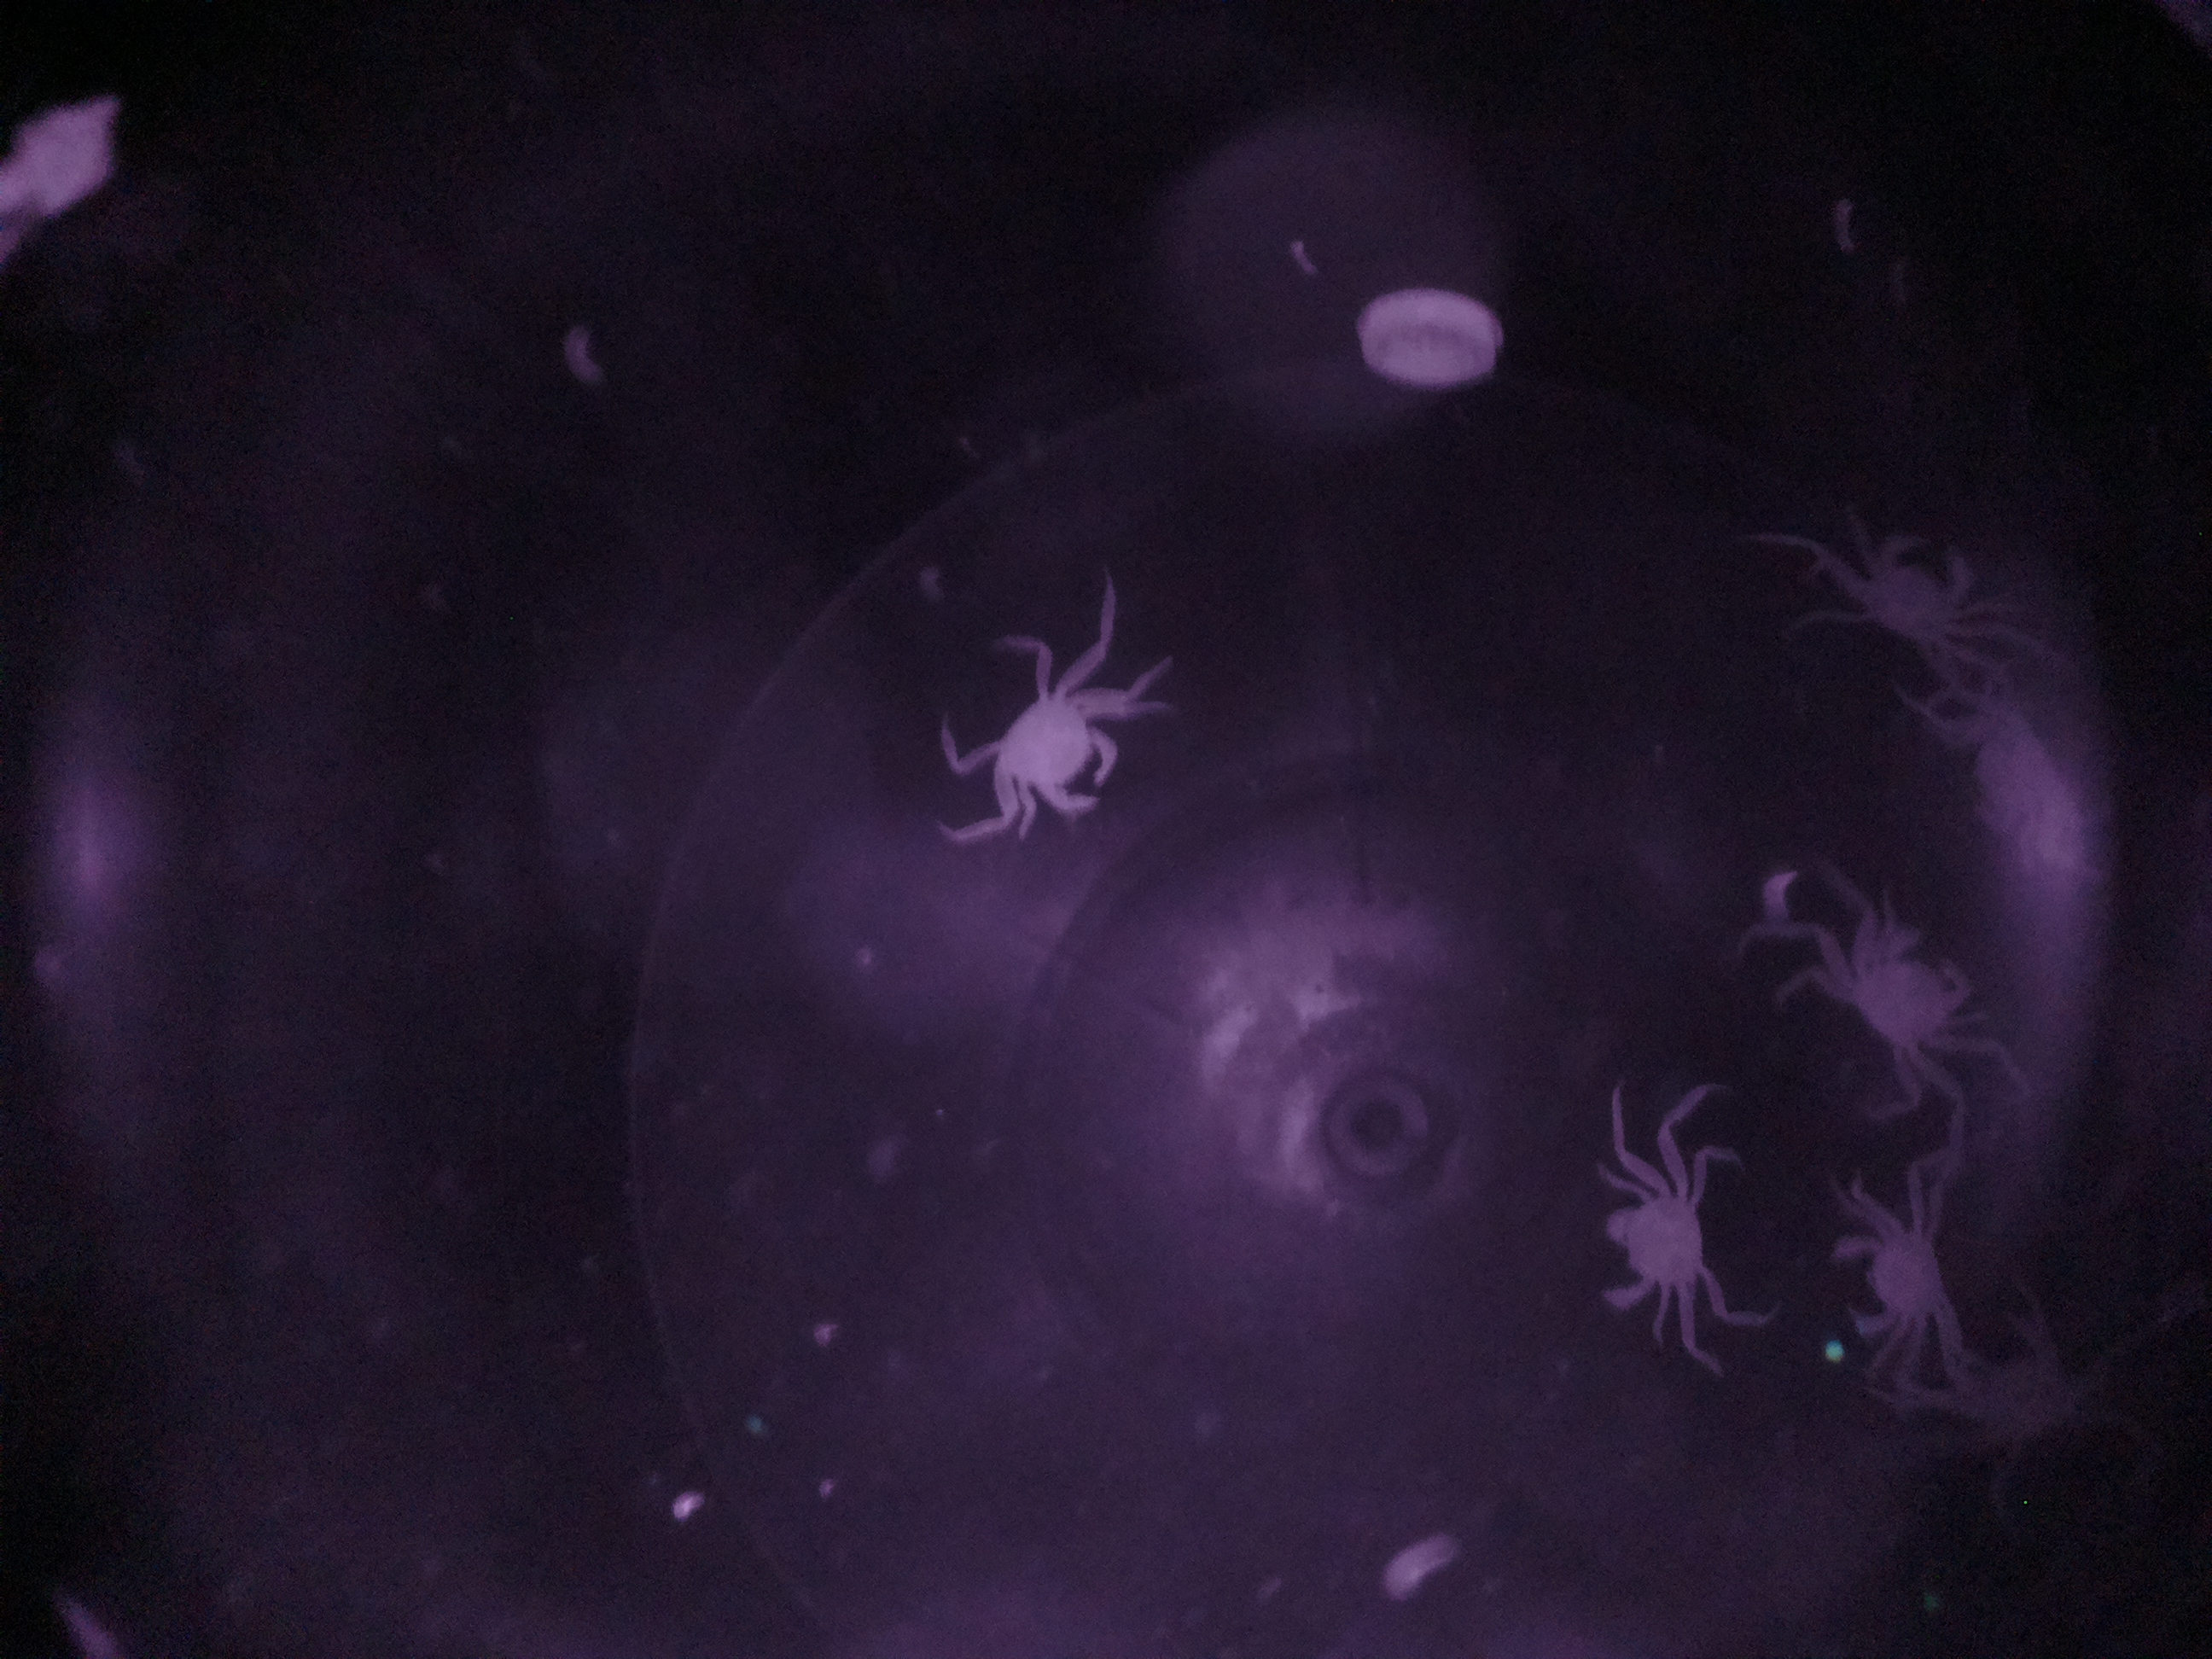Crab: (1796, 903, 1987, 1089), (965, 640, 1125, 836), (1824, 1182, 1987, 1359), (1576, 1152, 1733, 1328), (1846, 504, 1993, 662)
